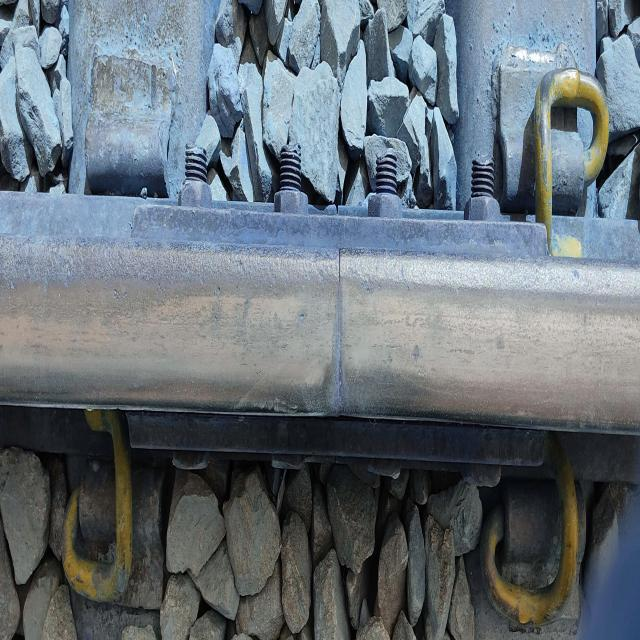Good Fasteners: (485, 16, 610, 269), (47, 396, 145, 601), (486, 424, 584, 627)
Good Joint: (122, 105, 565, 539)
Missing Fastener: (74, 51, 185, 219)
